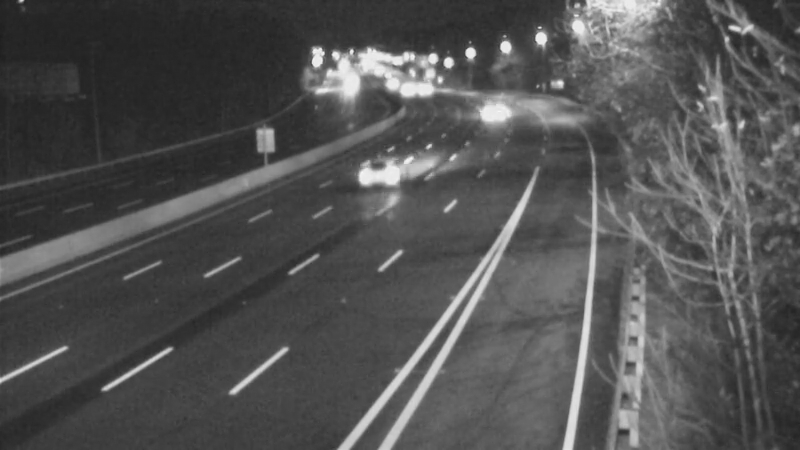vehicle: (341, 134, 421, 214), (401, 66, 451, 116), (363, 59, 413, 109), (384, 65, 434, 115), (466, 96, 516, 146), (327, 62, 377, 112)
